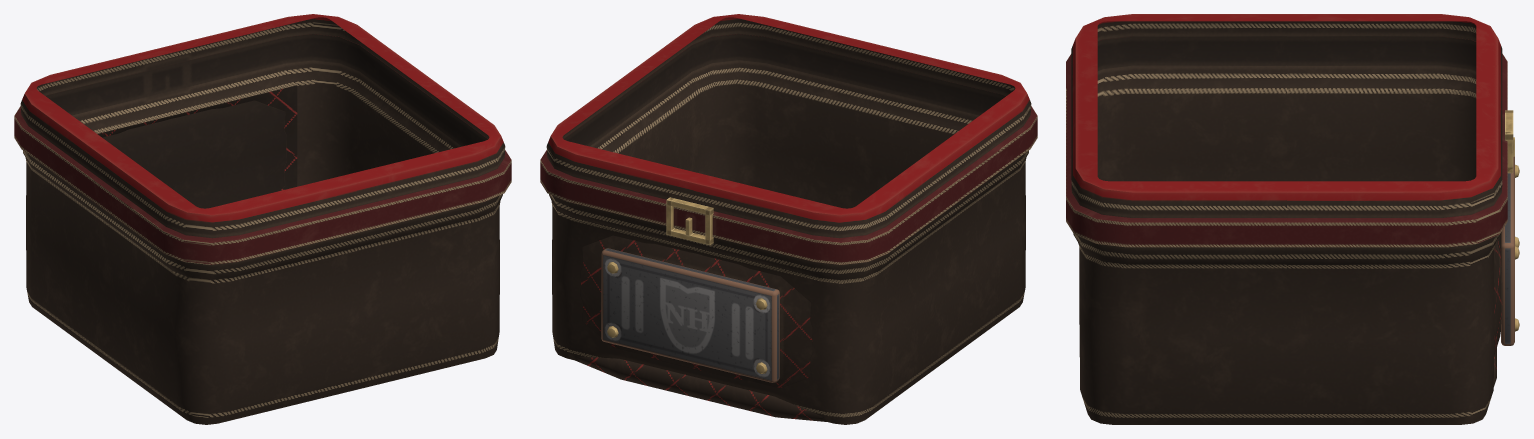
Rendered from NHGear_WeightedGloves.fbx.
The picture shows the model from 3 angles, left to right: view 1: azimuth 30°, elevation 25°; view 2: azimuth 150°, elevation 25°; view 3: azimuth 270°, elevation 25°; orthographic projection. The views are drawn at different scales.
Parts seen in each view (by area): view 1: NHGear_WeightedGloves; view 2: NHGear_WeightedGloves; view 3: NHGear_WeightedGloves.
Boxes of the visible parts, left/top/right/bottom form: NHGear_WeightedGloves: left=14, top=14, right=511, bottom=424; NHGear_WeightedGloves: left=540, top=14, right=1037, bottom=424; NHGear_WeightedGloves: left=1066, top=14, right=1519, bottom=424.
Bounding box in the file's own units: 1.17 × 0.7328 × 1.2.
Materials: 1 (1 with a texture image).
